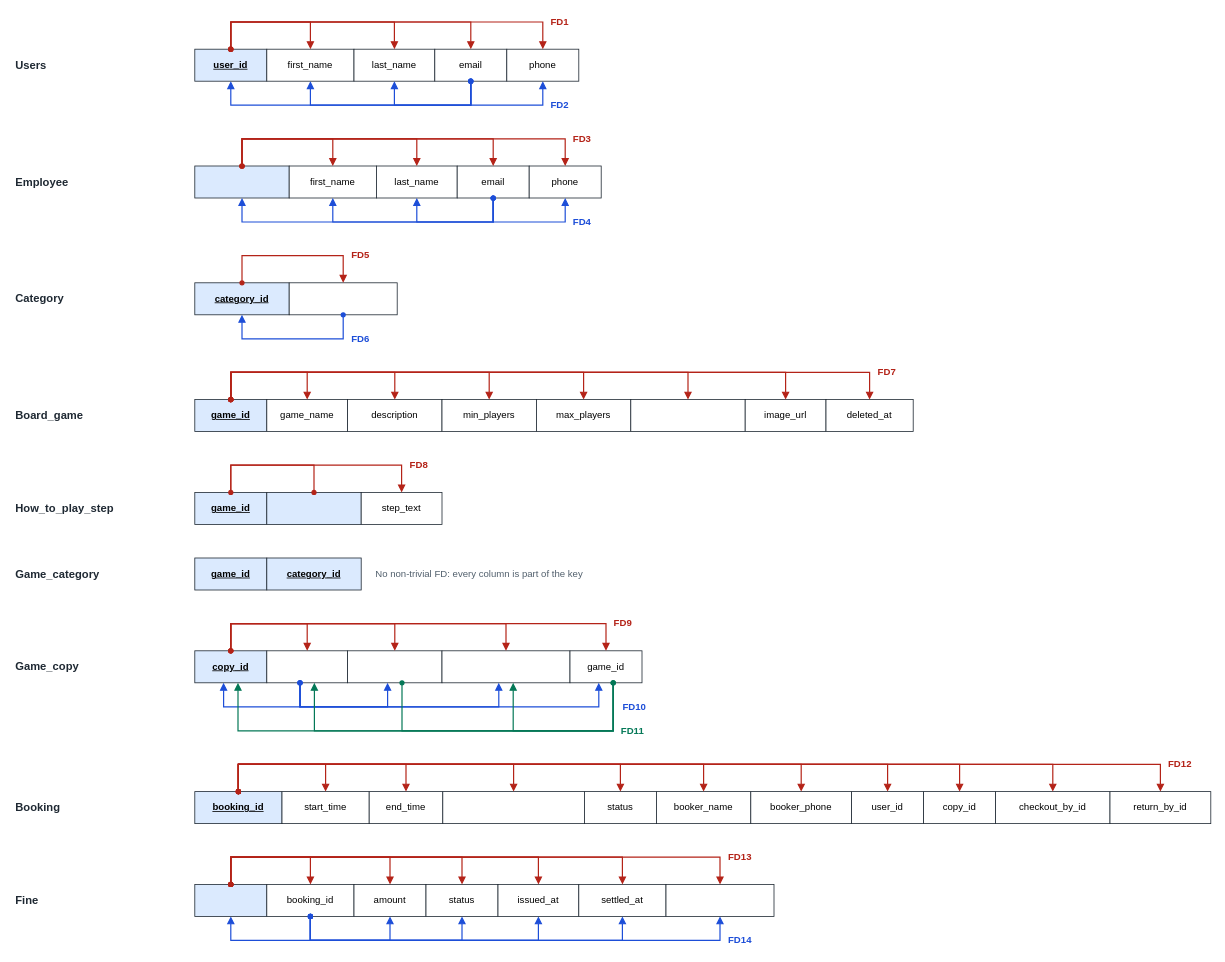
This 1225x962 diagram has some shape labels left out. The box of each missing label's shape, as (x1, y1, x2, y2) in pixels:
actual_return_time: (442, 791, 584, 824)
category_name: (288, 282, 397, 315)
condition_status: (441, 650, 570, 683)
copy_code: (266, 650, 348, 683)
copy_number: (347, 650, 442, 683)
employee_id: (194, 165, 289, 198)
fine_id: (194, 884, 267, 916)
play_time_mins: (630, 399, 745, 432)
settled_by_id: (665, 884, 774, 916)
step_number: (266, 492, 361, 524)
